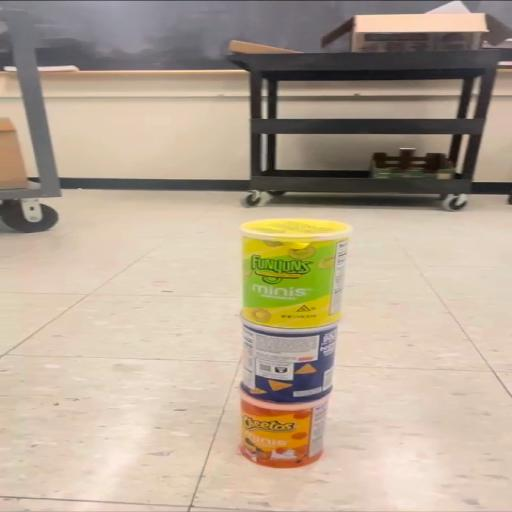pringle can: (239, 218, 341, 324), (240, 320, 338, 402), (240, 398, 328, 467)
